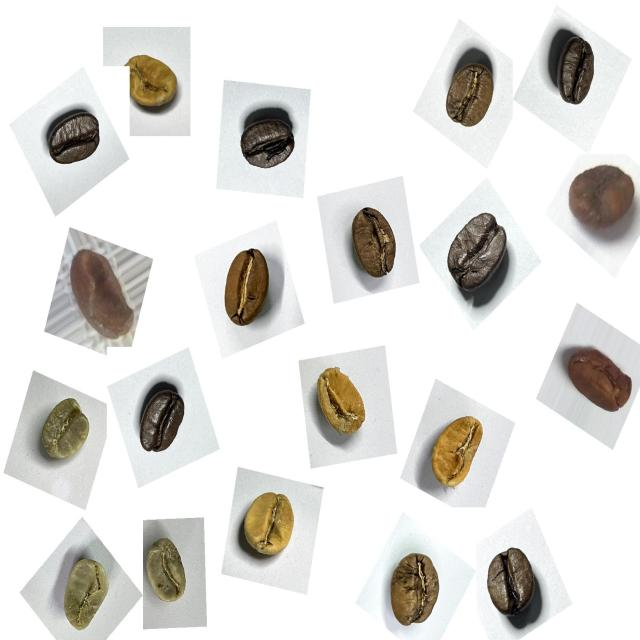bad: (62, 240, 140, 345), (562, 154, 640, 247), (560, 334, 640, 423)
dark: (439, 202, 520, 308), (476, 540, 548, 638), (541, 23, 612, 120), (233, 99, 306, 186), (129, 375, 196, 467), (40, 100, 111, 180)
green: (50, 545, 122, 640), (30, 389, 101, 476), (138, 526, 200, 616)
light: (306, 358, 380, 452), (419, 406, 492, 500), (234, 481, 308, 573), (118, 41, 188, 125)
medium: (210, 236, 283, 337), (377, 544, 453, 638), (338, 199, 408, 292), (434, 52, 506, 142)
